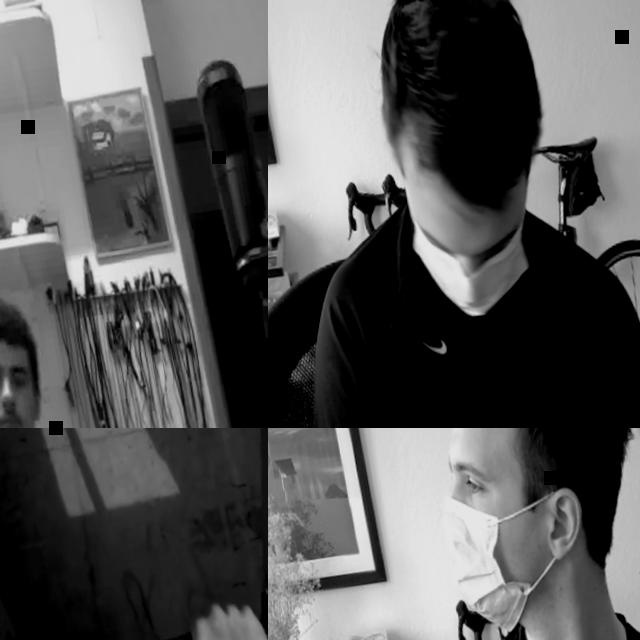Mask: (437, 479, 580, 640), (408, 208, 540, 324)
NO-Hardhat: (357, 0, 560, 210), (436, 428, 633, 459), (0, 296, 34, 357)
NO-Mask: (0, 405, 38, 428)
NO-Safety Vest: (339, 191, 638, 428)
Person: (268, 0, 640, 428), (341, 428, 640, 640)
